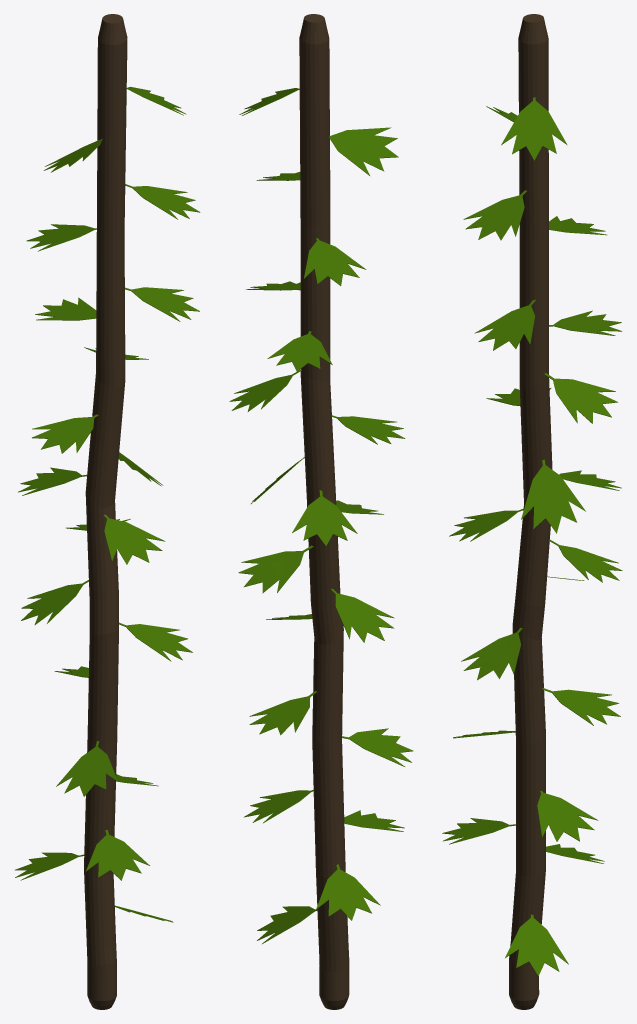
Rendered from vine.fbx.
The picture shows the model from 3 angles, left to right: view 1: azimuth 30°, elevation 25°; view 2: azimuth 150°, elevation 25°; view 3: azimuth 270°, elevation 25°; orthographic projection.
Parts seen in each view (by area): view 1: polySurface11; view 2: polySurface11; view 3: polySurface11.
Part boxes in pixels (left/top/right/bottom): polySurface11: left=15, top=14, right=200, bottom=1009; polySurface11: left=229, top=14, right=413, bottom=1009; polySurface11: left=442, top=14, right=622, bottom=1009.
Bounding box in the file's own units: 1.01 × 6.16 × 1.01.
